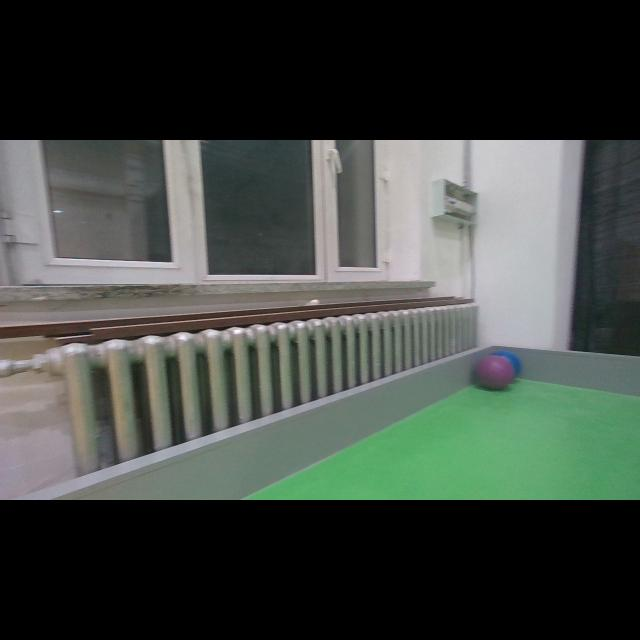B: (489, 350, 521, 380)
P: (476, 356, 514, 390)
